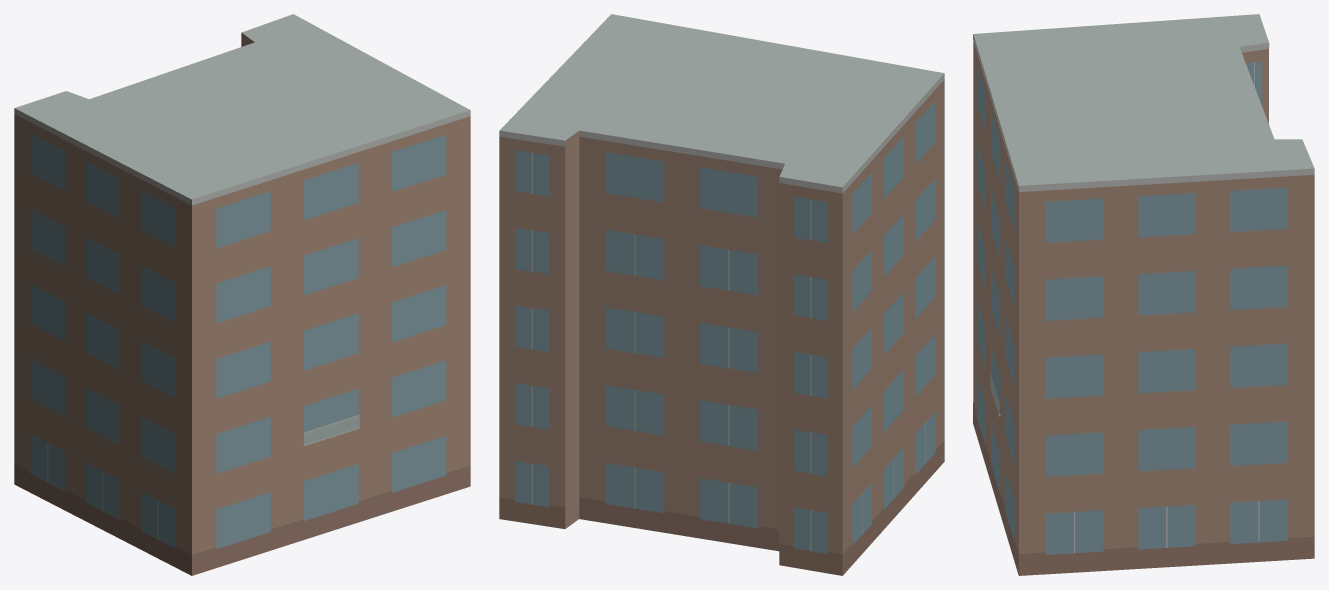
The model's file is survey-upis-32767822.glb.
3 renders of one model, left to right at view 1: azimuth 30°, elevation 25°; view 2: azimuth 150°, elevation 25°; view 3: azimuth 270°, elevation 25°, orthographic. The views are drawn at different scales.
Parts seen in each view (by area): view 1: survey-upis-32767822.tmp; view 2: survey-upis-32767822.tmp; view 3: survey-upis-32767822.tmp.
Boxes of the visible parts, bbox=[...] form: survey-upis-32767822.tmp: bbox=[14, 14, 470, 575]; survey-upis-32767822.tmp: bbox=[499, 14, 944, 575]; survey-upis-32767822.tmp: bbox=[973, 14, 1314, 575].
Bounding box in the file's own units: 14.58 × 15.4 × 12.23.
